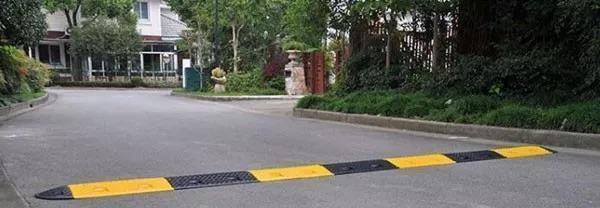speedbreaker: (31, 141, 568, 199)
